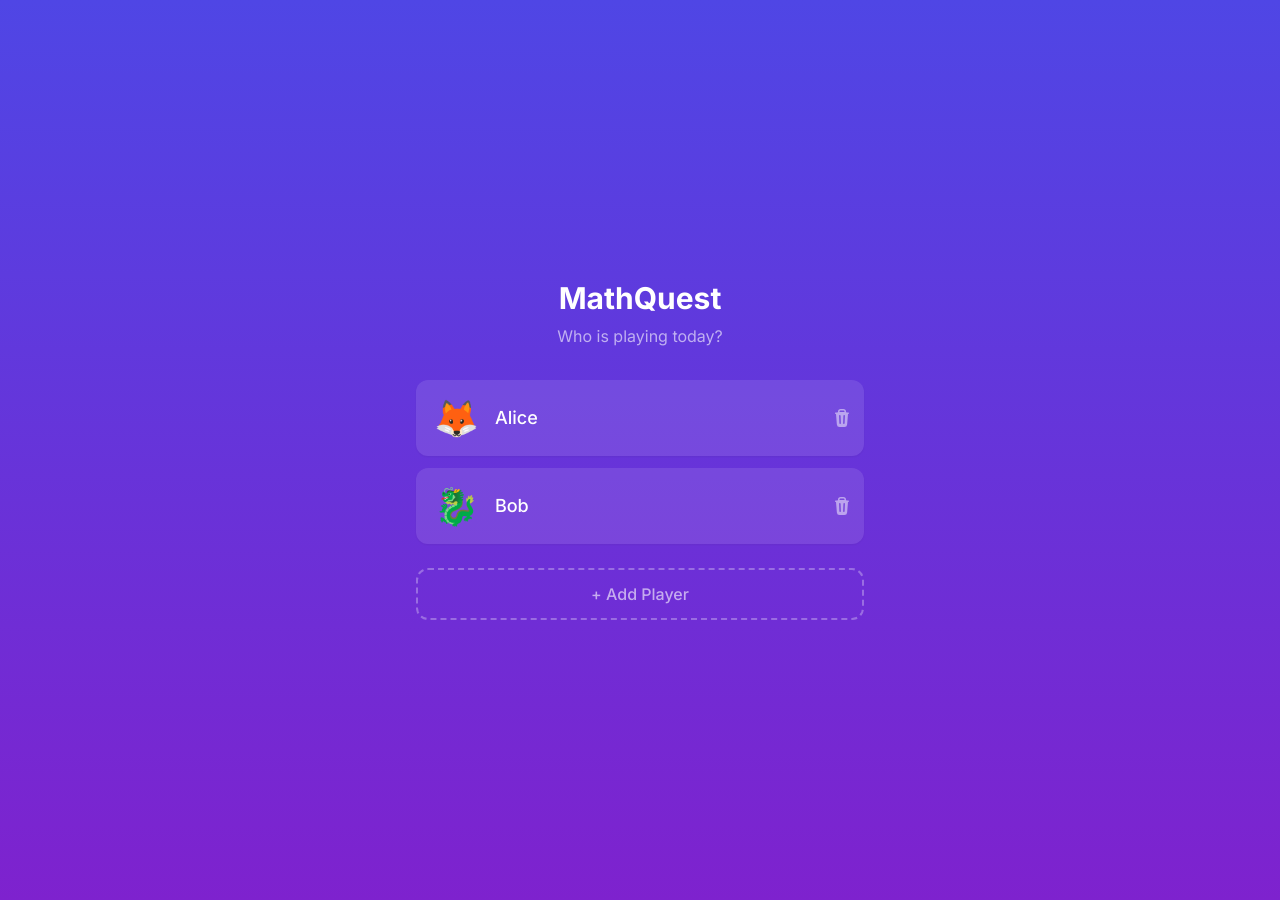
Test: ProfilePicker › existing profiles state › should show confirmation on delete click
Click the button named "Delete Alice": (842, 418) 832,408 -> 852,428
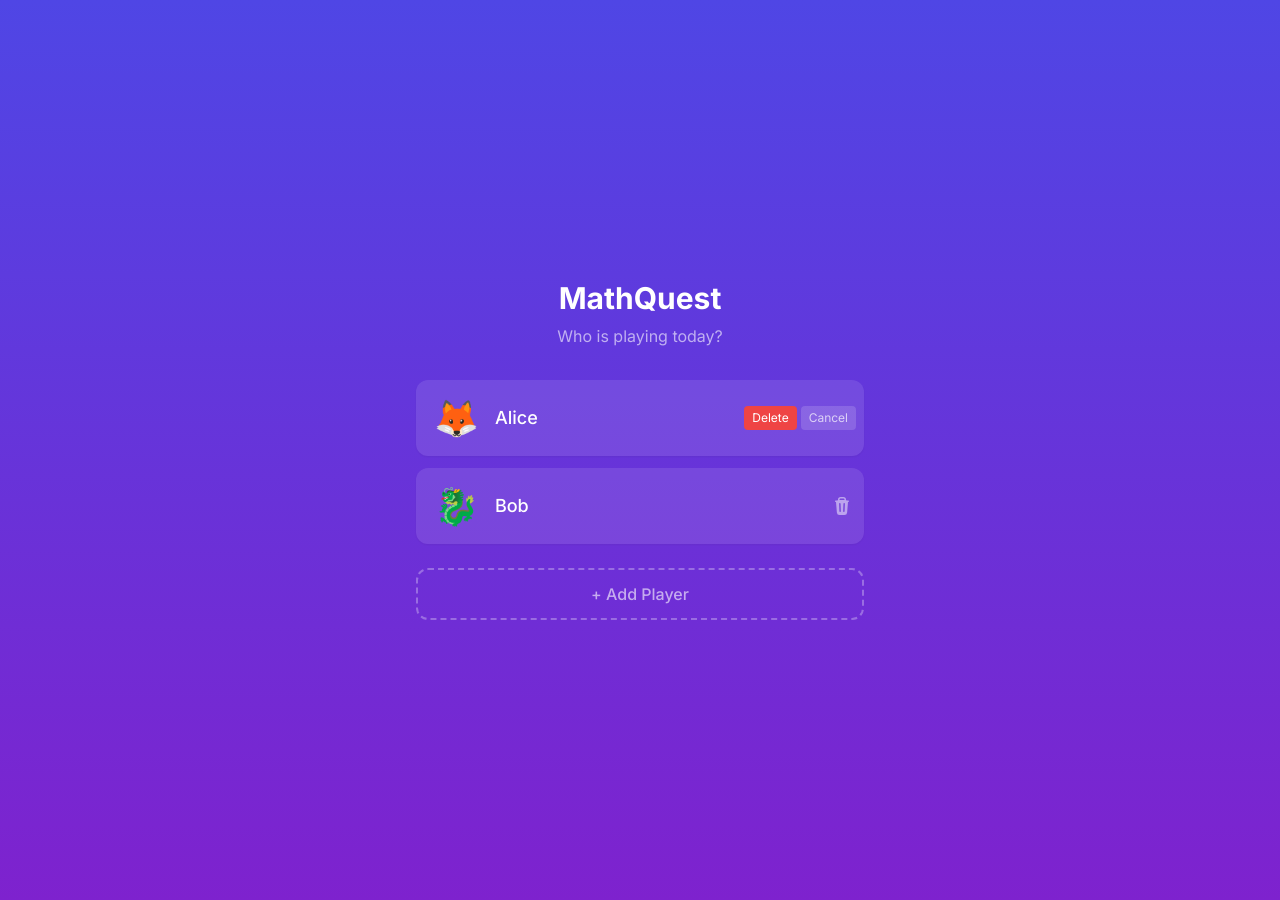
Result: the button with aria-label "Confirm delete Alice" is shown at 744,406 -> 797,430
Result: the button with aria-label "Cancel delete" is shown at 801,406 -> 856,430
